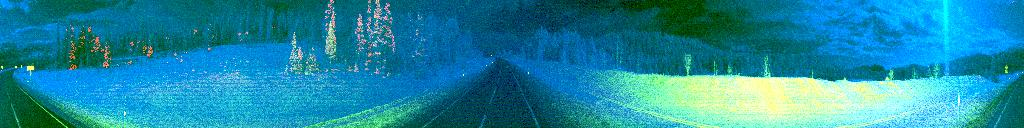pole: (955, 83, 963, 128), (121, 92, 128, 128)
